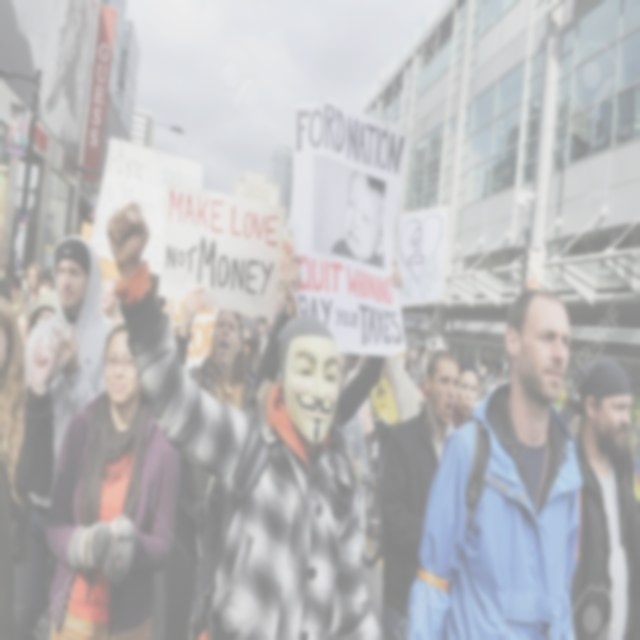pessoa: (398, 276, 592, 640), (196, 304, 386, 640), (37, 318, 186, 640), (12, 235, 116, 640), (173, 284, 257, 639), (253, 252, 404, 436), (102, 201, 196, 472), (378, 347, 462, 639), (558, 352, 640, 640), (0, 255, 58, 639), (1, 11, 105, 177), (384, 338, 484, 430), (406, 339, 510, 402), (338, 171, 390, 273), (92, 268, 144, 342), (555, 381, 585, 427), (626, 432, 640, 514)
